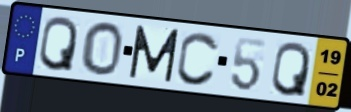5: (229, 35, 268, 93)
C: (174, 30, 221, 88)
M: (127, 23, 182, 84)
O: (80, 20, 125, 77)
Q: (36, 15, 80, 74), (269, 40, 312, 99)
